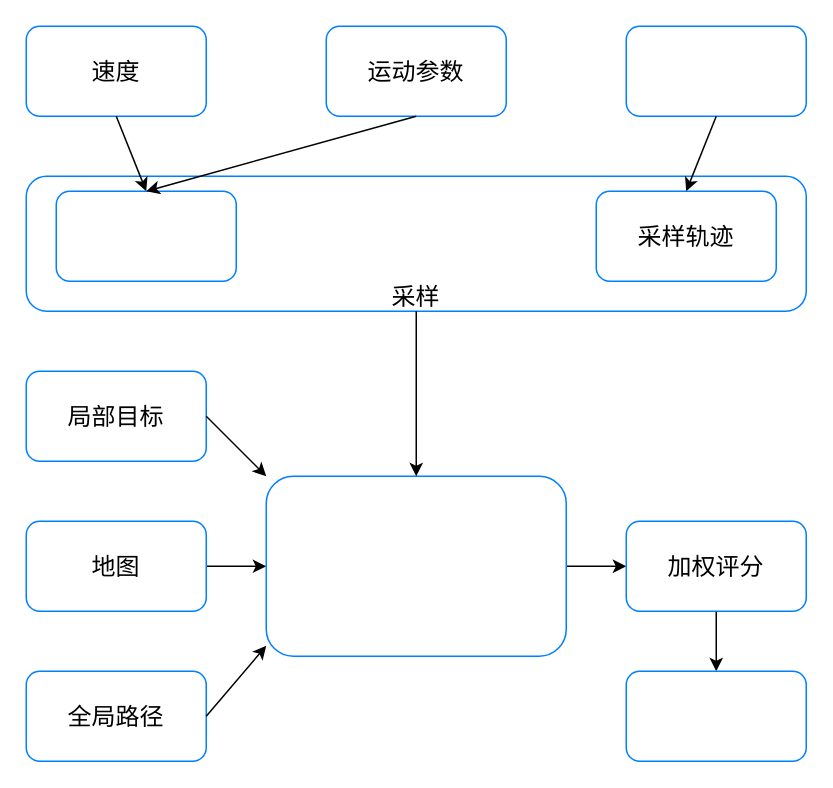
Some shapes in this 833 by 788 pixel diagram are drawn without their labels. Each missing label, with the centre of its shape:
"代价函数" belongs at point 415,565.
"位置" belongs at point 715,70.
"最优速度" belongs at point 715,715.
"采样速度" belongs at point 145,235.
